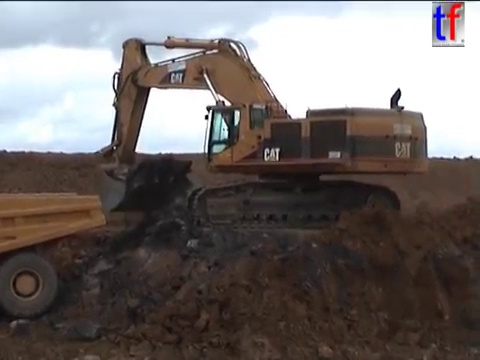excavator: (93, 32, 431, 235)
truck: (1, 190, 107, 317)
